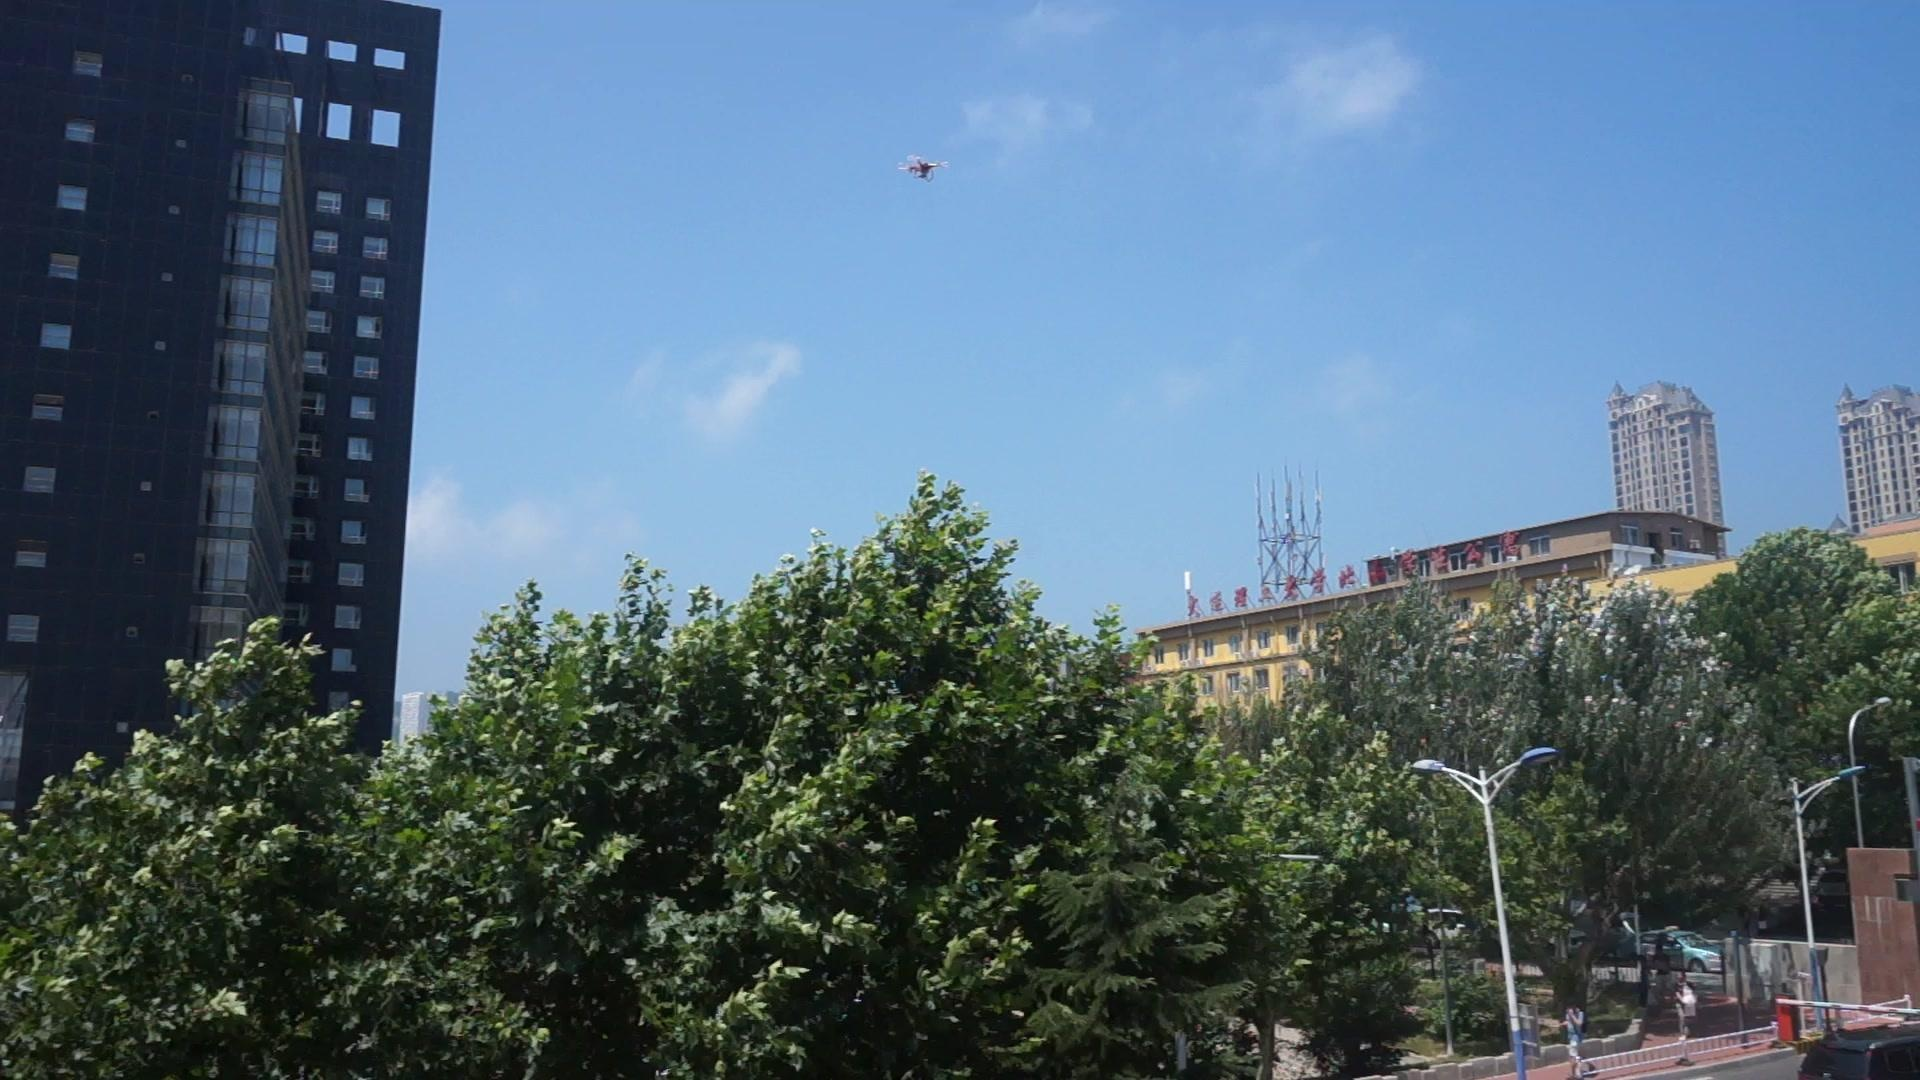UAV: (899, 156, 953, 185)
